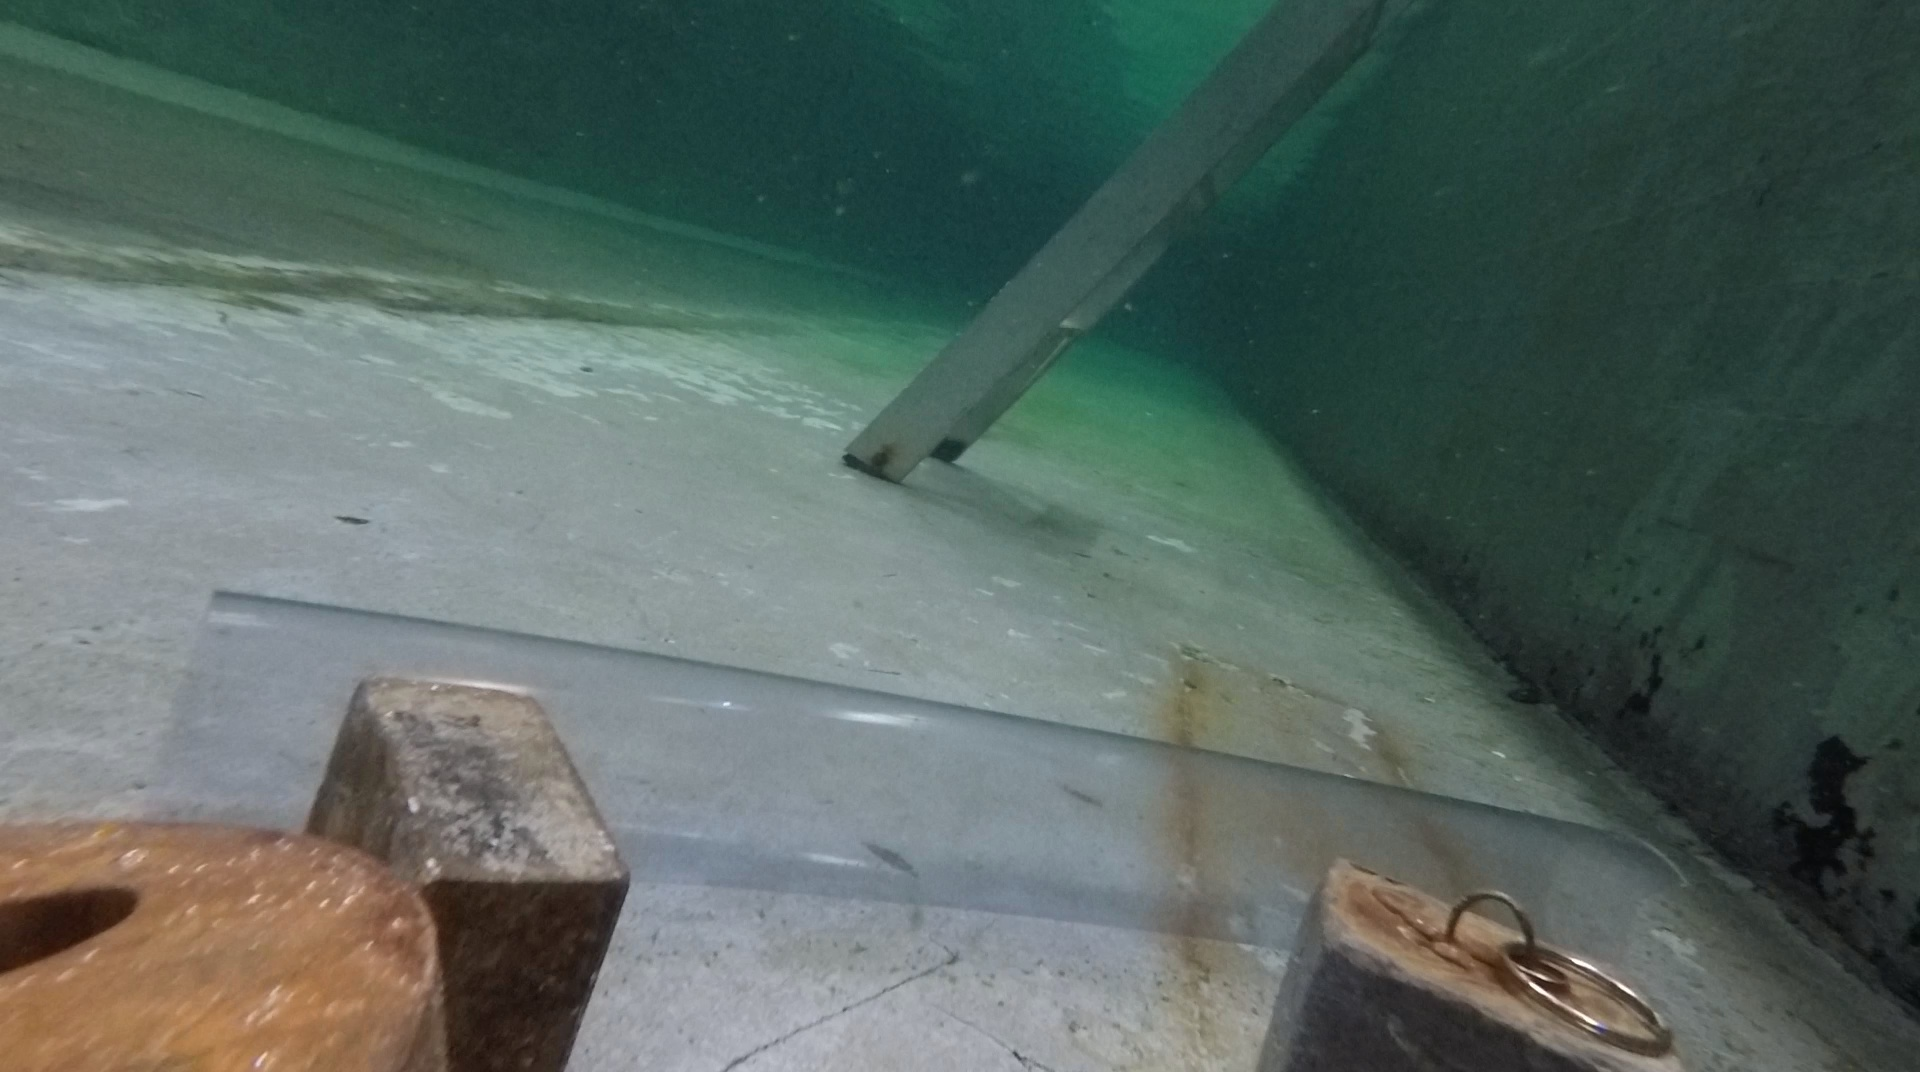flange: (1, 818, 452, 1069)
led_block: (302, 672, 632, 1060), (1251, 853, 1683, 1072)
pipe: (140, 589, 1700, 1023)
